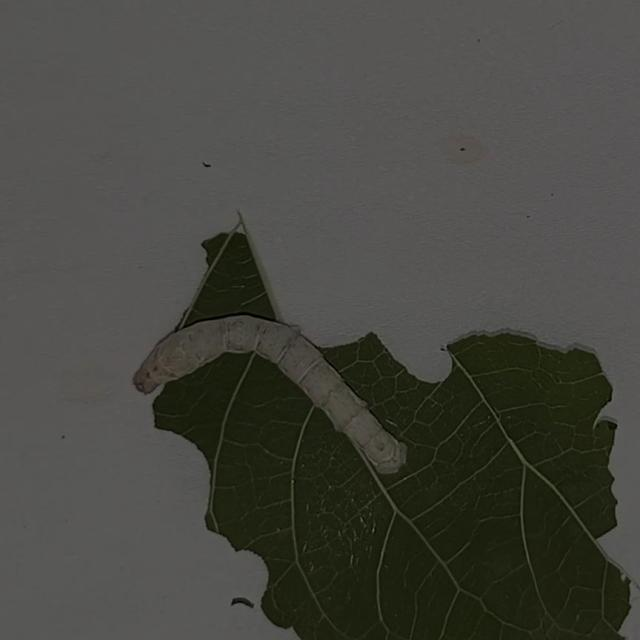Healthy: (113, 277, 462, 508)
